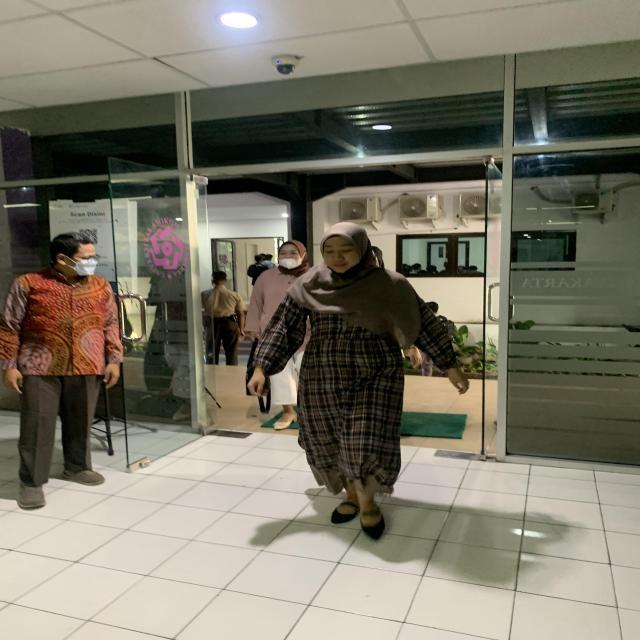hairnet: (328, 251, 371, 278)
